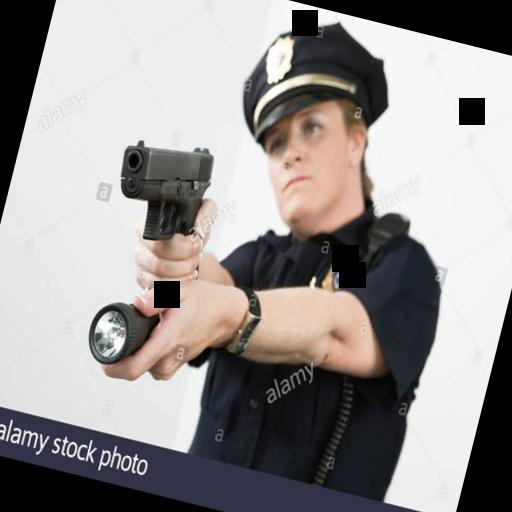Handgun: (104, 128, 220, 252)
